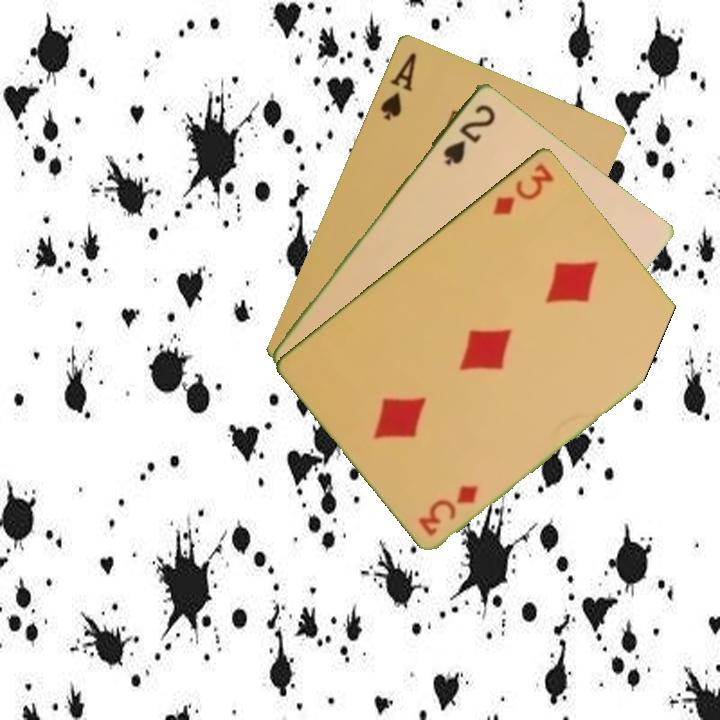2s: (439, 100, 498, 169)
3d: (489, 159, 557, 218), (414, 480, 482, 538)
As: (376, 48, 419, 123)
